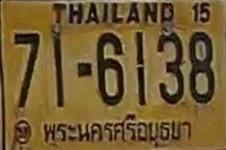1: (135, 30, 147, 106), (53, 35, 65, 108)
3: (156, 31, 184, 103)
6: (96, 32, 123, 105)
7: (14, 31, 40, 104)
8: (188, 31, 214, 102)
AYA: (41, 111, 197, 150)
